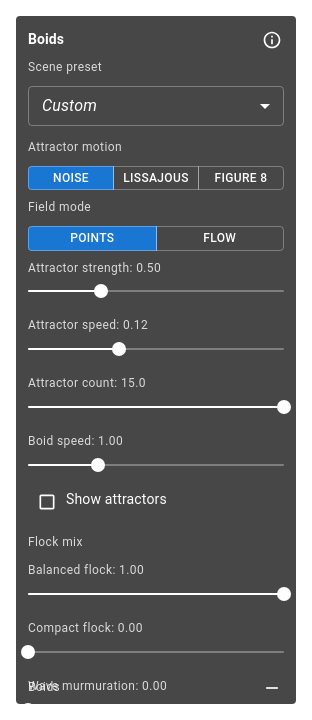
it: BoidsSettingsPanel › toggles aria-expanded on collapse
What coordinates should you click on to do the following:
click the button named "Collapse settings"
I would click on:
 (272, 688)
Its box is [260, 676, 284, 700].
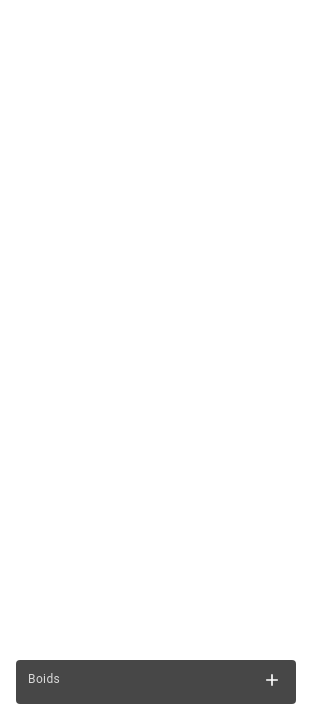
Expected: the button named "Expand settings" is collapsed, [260, 668, 284, 692]
